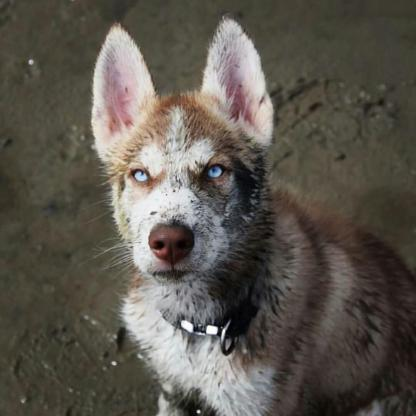dog: (88, 18, 416, 416)
